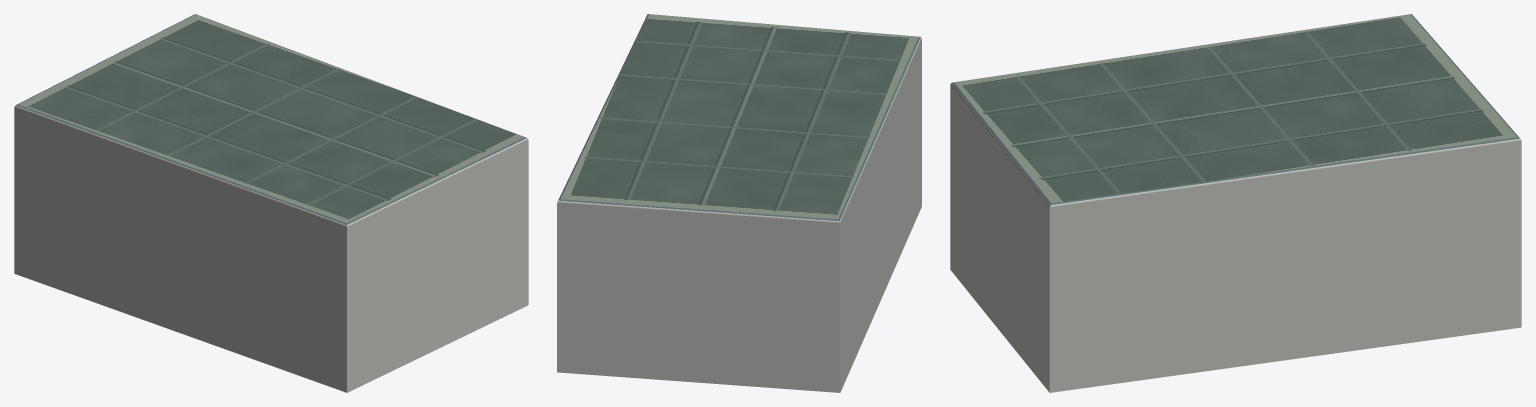
File: intact.glb
3 renders of one model, left to right at view 1: azimuth 30°, elevation 25°; view 2: azimuth 150°, elevation 25°; view 3: azimuth 270°, elevation 25°, orthographic. The views are drawn at different scales.
Visible parts, largest first — view 1: SM_gh54_Intact_00; view 2: SM_gh54_Intact_00; view 3: SM_gh54_Intact_00.
Boxes of the visible parts, box(x1,y1,x2,y2) form: SM_gh54_Intact_00: box(14, 14, 528, 392); SM_gh54_Intact_00: box(557, 14, 921, 392); SM_gh54_Intact_00: box(950, 14, 1521, 392).
Size of the model in its own units: 1.75 by 0.8052 by 2.2.
Materials: 3 (1 with a texture image).
